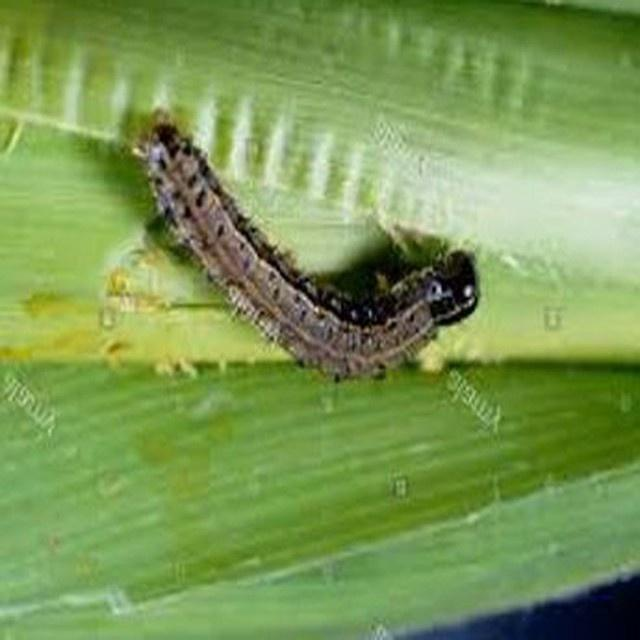gusano_cogollero: (154, 115, 478, 373)
